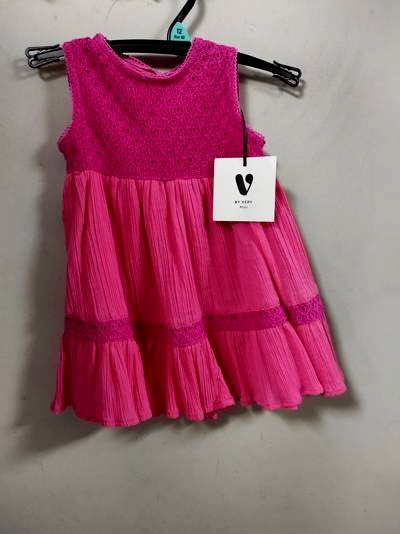Dress: (20, 17, 346, 432)
